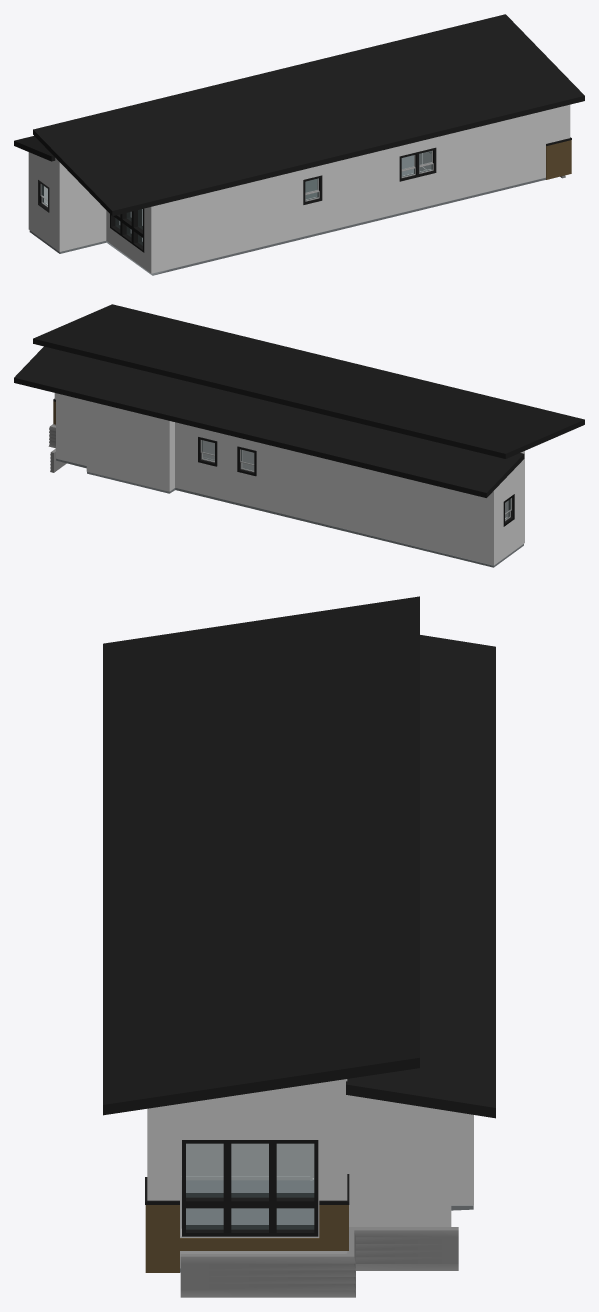
File: eastridge-5b-top.gltf
The picture shows the model from 3 angles, top to bottom: view 1: azimuth 30°, elevation 25°; view 2: azimuth 150°, elevation 25°; view 3: azimuth 270°, elevation 25°; orthographic projection. The views are drawn at different scales.
Parts seen in each view (by area): view 1: roof_big:PIV, main_top_floor:PIV, top_floor_floor:PIV, main_window3:PIV, pCube488:PIV, roof_small:PIV; view 2: main_top_floor:PIV, roof_big:PIV, roof_small:PIV, top_floor_floor:PIV, pCube486:PIV; view 3: roof_big:PIV, roof_small:PIV, main_top_floor:PIV, pCube486:PIV, main_window2:PIV, pCube488:PIV, pCube80:PIV, top_floor_floor:PIV, pCube274:PIV, pCube273:PIV, pCube275:PIV.
Part boxes in pixels (bbox=[...]): roof_big:PIV: bbox=[33, 14, 584, 216]; main_top_floor:PIV: bbox=[28, 104, 570, 273]; top_floor_floor:PIV: bbox=[29, 154, 545, 275]; main_window3:PIV: bbox=[110, 208, 144, 252]; pCube488:PIV: bbox=[546, 140, 571, 179]; roof_small:PIV: bbox=[14, 136, 55, 161]; main_top_floor:PIV: bbox=[54, 393, 524, 565]; roof_big:PIV: bbox=[33, 304, 584, 458]; roof_small:PIV: bbox=[14, 346, 524, 497]; top_floor_floor:PIV: bbox=[56, 458, 523, 567]; pCube486:PIV: bbox=[48, 424, 66, 472]; roof_big:PIV: bbox=[103, 596, 419, 1115]; roof_small:PIV: bbox=[346, 635, 495, 1118]; main_top_floor:PIV: bbox=[147, 1079, 473, 1267]; pCube486:PIV: bbox=[180, 1227, 458, 1297]; main_window2:PIV: bbox=[182, 1140, 318, 1236]; pCube488:PIV: bbox=[145, 1205, 348, 1272]; pCube80:PIV: bbox=[181, 1140, 308, 1175]; top_floor_floor:PIV: bbox=[180, 1179, 473, 1272]; pCube274:PIV: bbox=[186, 1144, 223, 1229]; pCube273:PIV: bbox=[231, 1144, 268, 1229]; pCube275:PIV: bbox=[277, 1144, 313, 1229].
Bounding box in the file's own units: 13.97 × 3.38 × 5.03.
